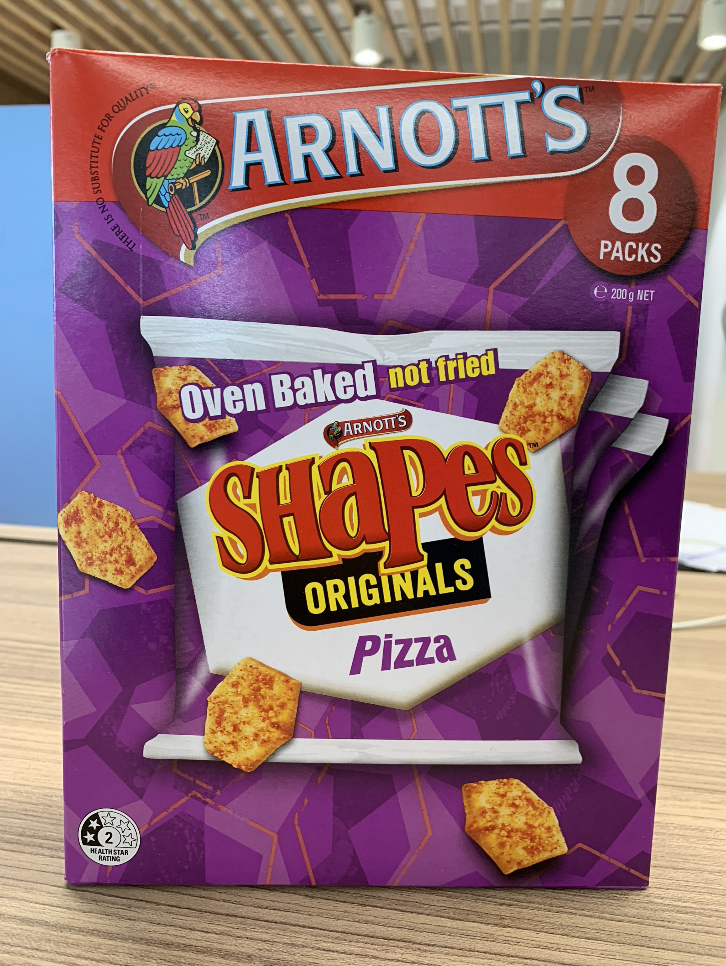crackers_200g-299g: (76, 101, 658, 875)
